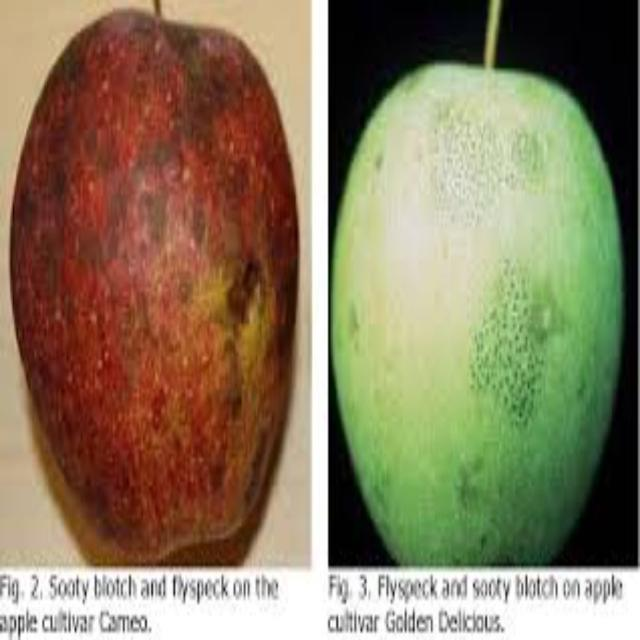Rotten Apple: (338, 3, 618, 563), (3, 6, 281, 548)
